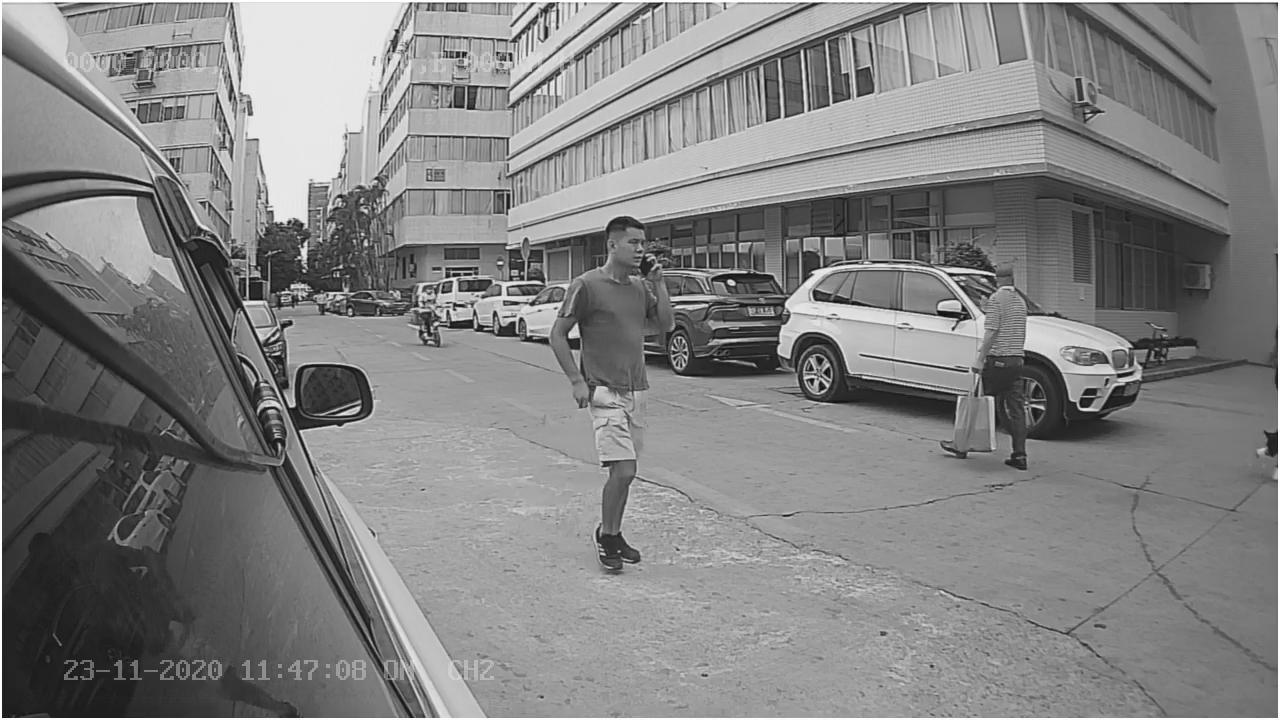person: (542, 198, 680, 583), (933, 245, 1043, 484)
